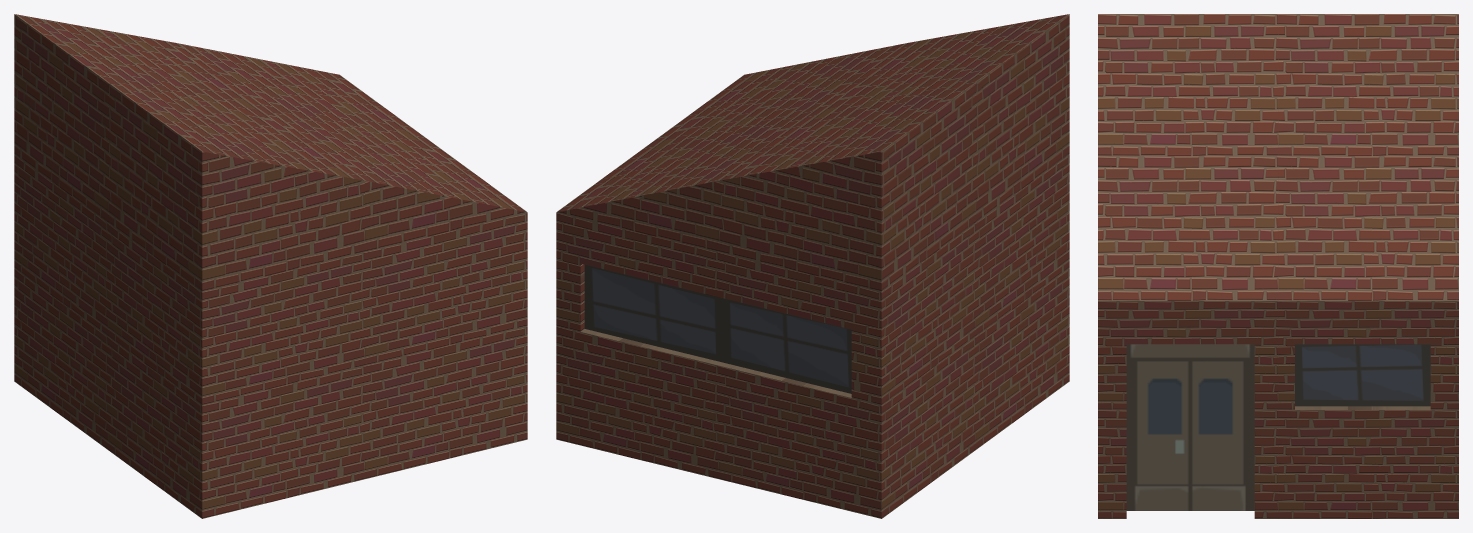
The model's file is Bock_A3.fbx.
3 renders of one model, left to right at view 1: azimuth 30°, elevation 25°; view 2: azimuth 150°, elevation 25°; view 3: azimuth 270°, elevation 25°, orthographic. The views are drawn at different scales.
Parts seen in each view (by area): view 1: Bock_A3; view 2: Bock_A3; view 3: Bock_A3.
Boxes of the visible parts, x1=… form: Bock_A3: x1=14, y1=14, x2=527, y2=518; Bock_A3: x1=556, y1=14, x2=1069, y2=518; Bock_A3: x1=1098, y1=14, x2=1458, y2=518.
Bounding box in the file's own units: 600 × 647 × 600.
Materials: 1 (1 with a texture image).
